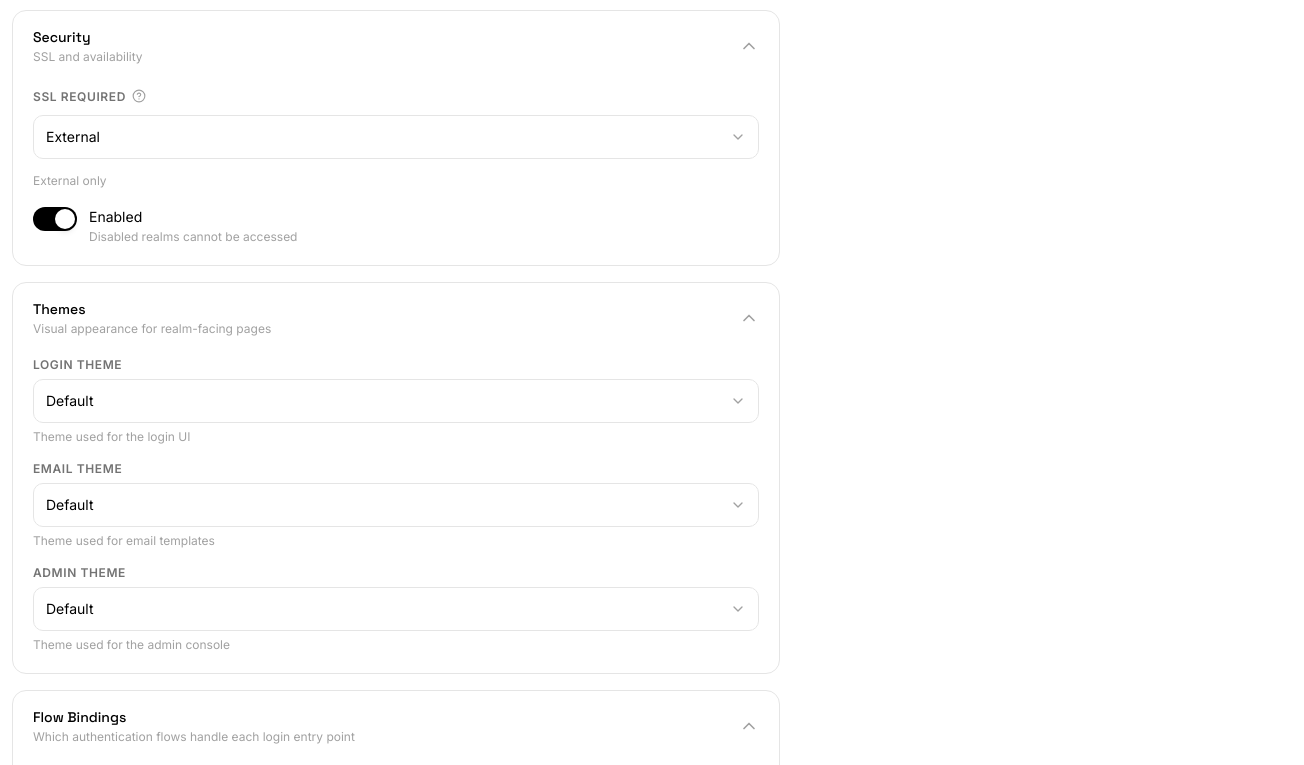
Test: RealmSettingsPage › changes login theme in general tab
(page scrolled)
Click the button named "Login Theme".
click(70, 400)  # box top-left (33, 378), bottom-right (759, 422)
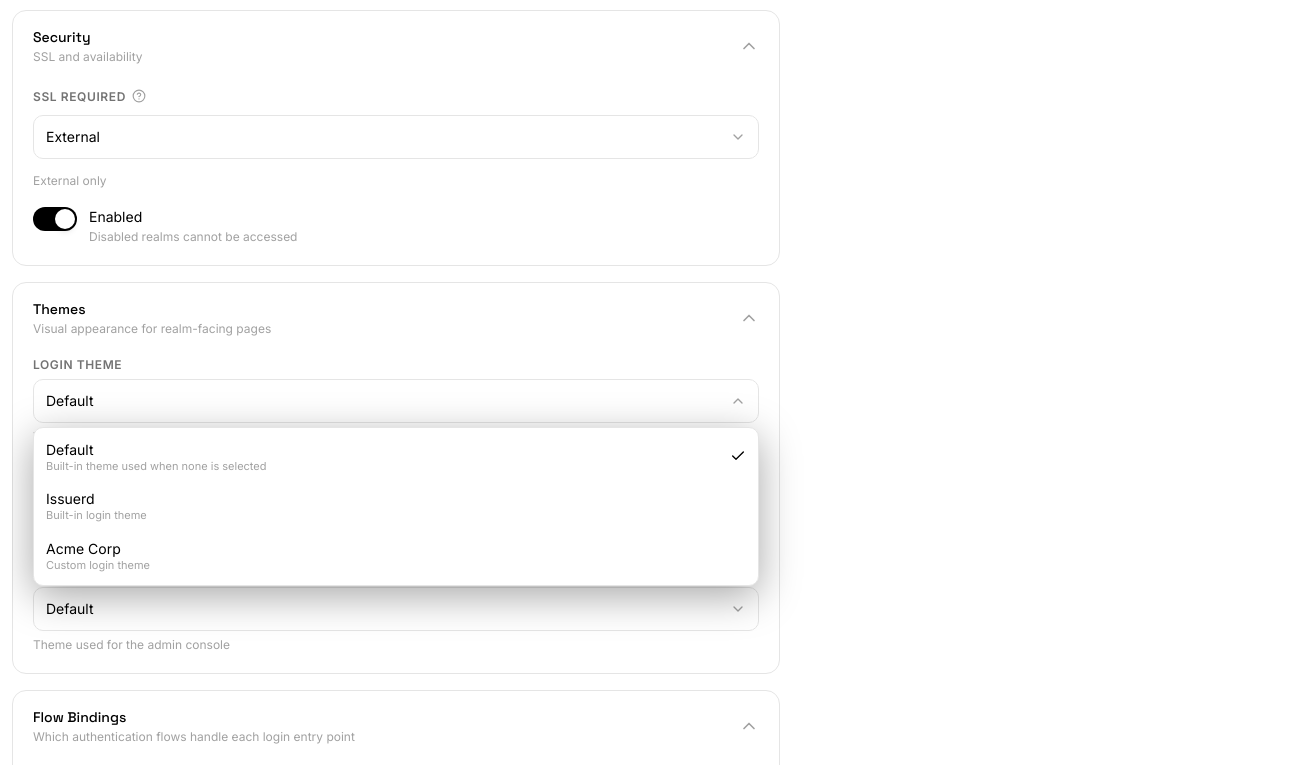
Click the text "Issuerd".
click(70, 499)  # box top-left (46, 490), bottom-right (95, 507)
(page scrolled)
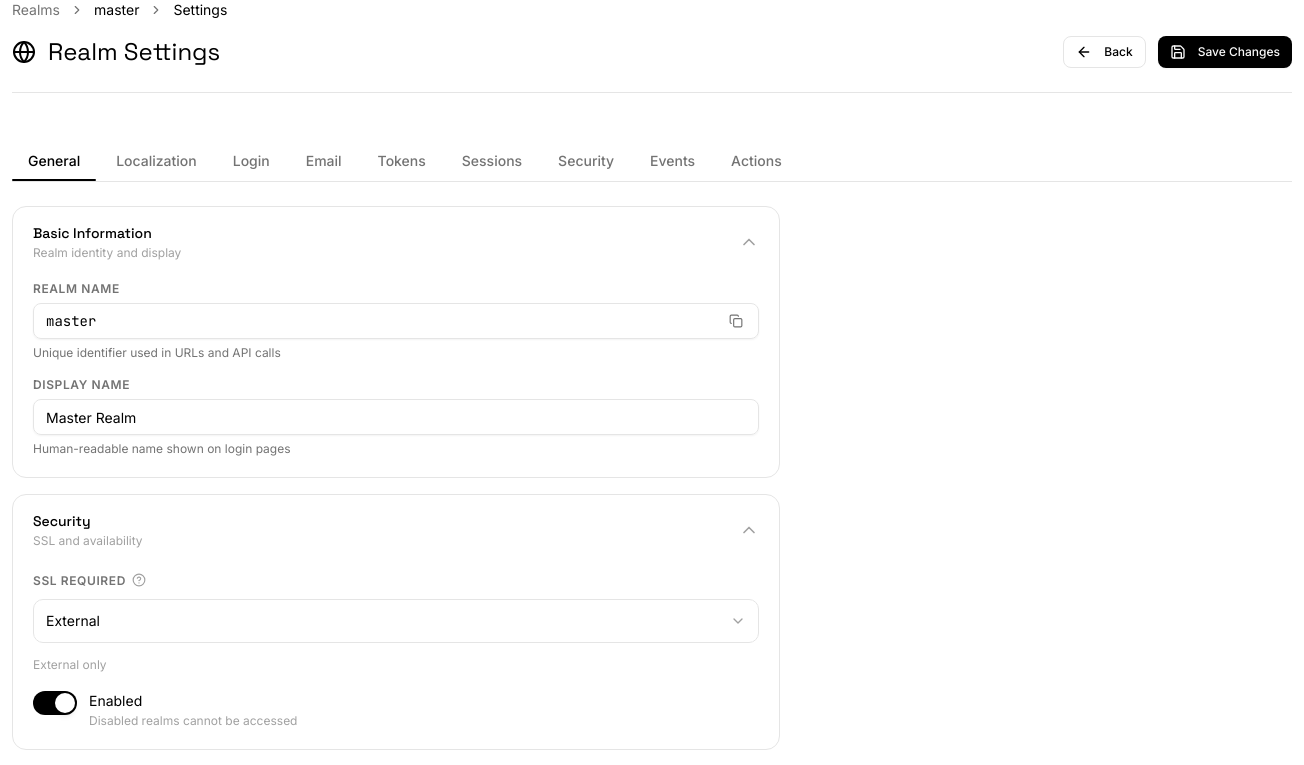
expect the button "Save Changes" is enabled: met, box top-left (1158, 36), bottom-right (1292, 68)
